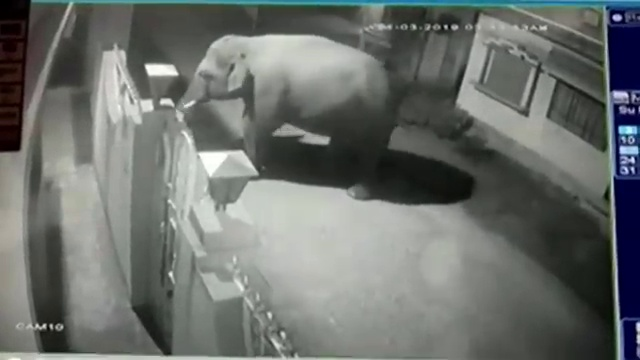Elephant: (178, 35, 392, 201)
